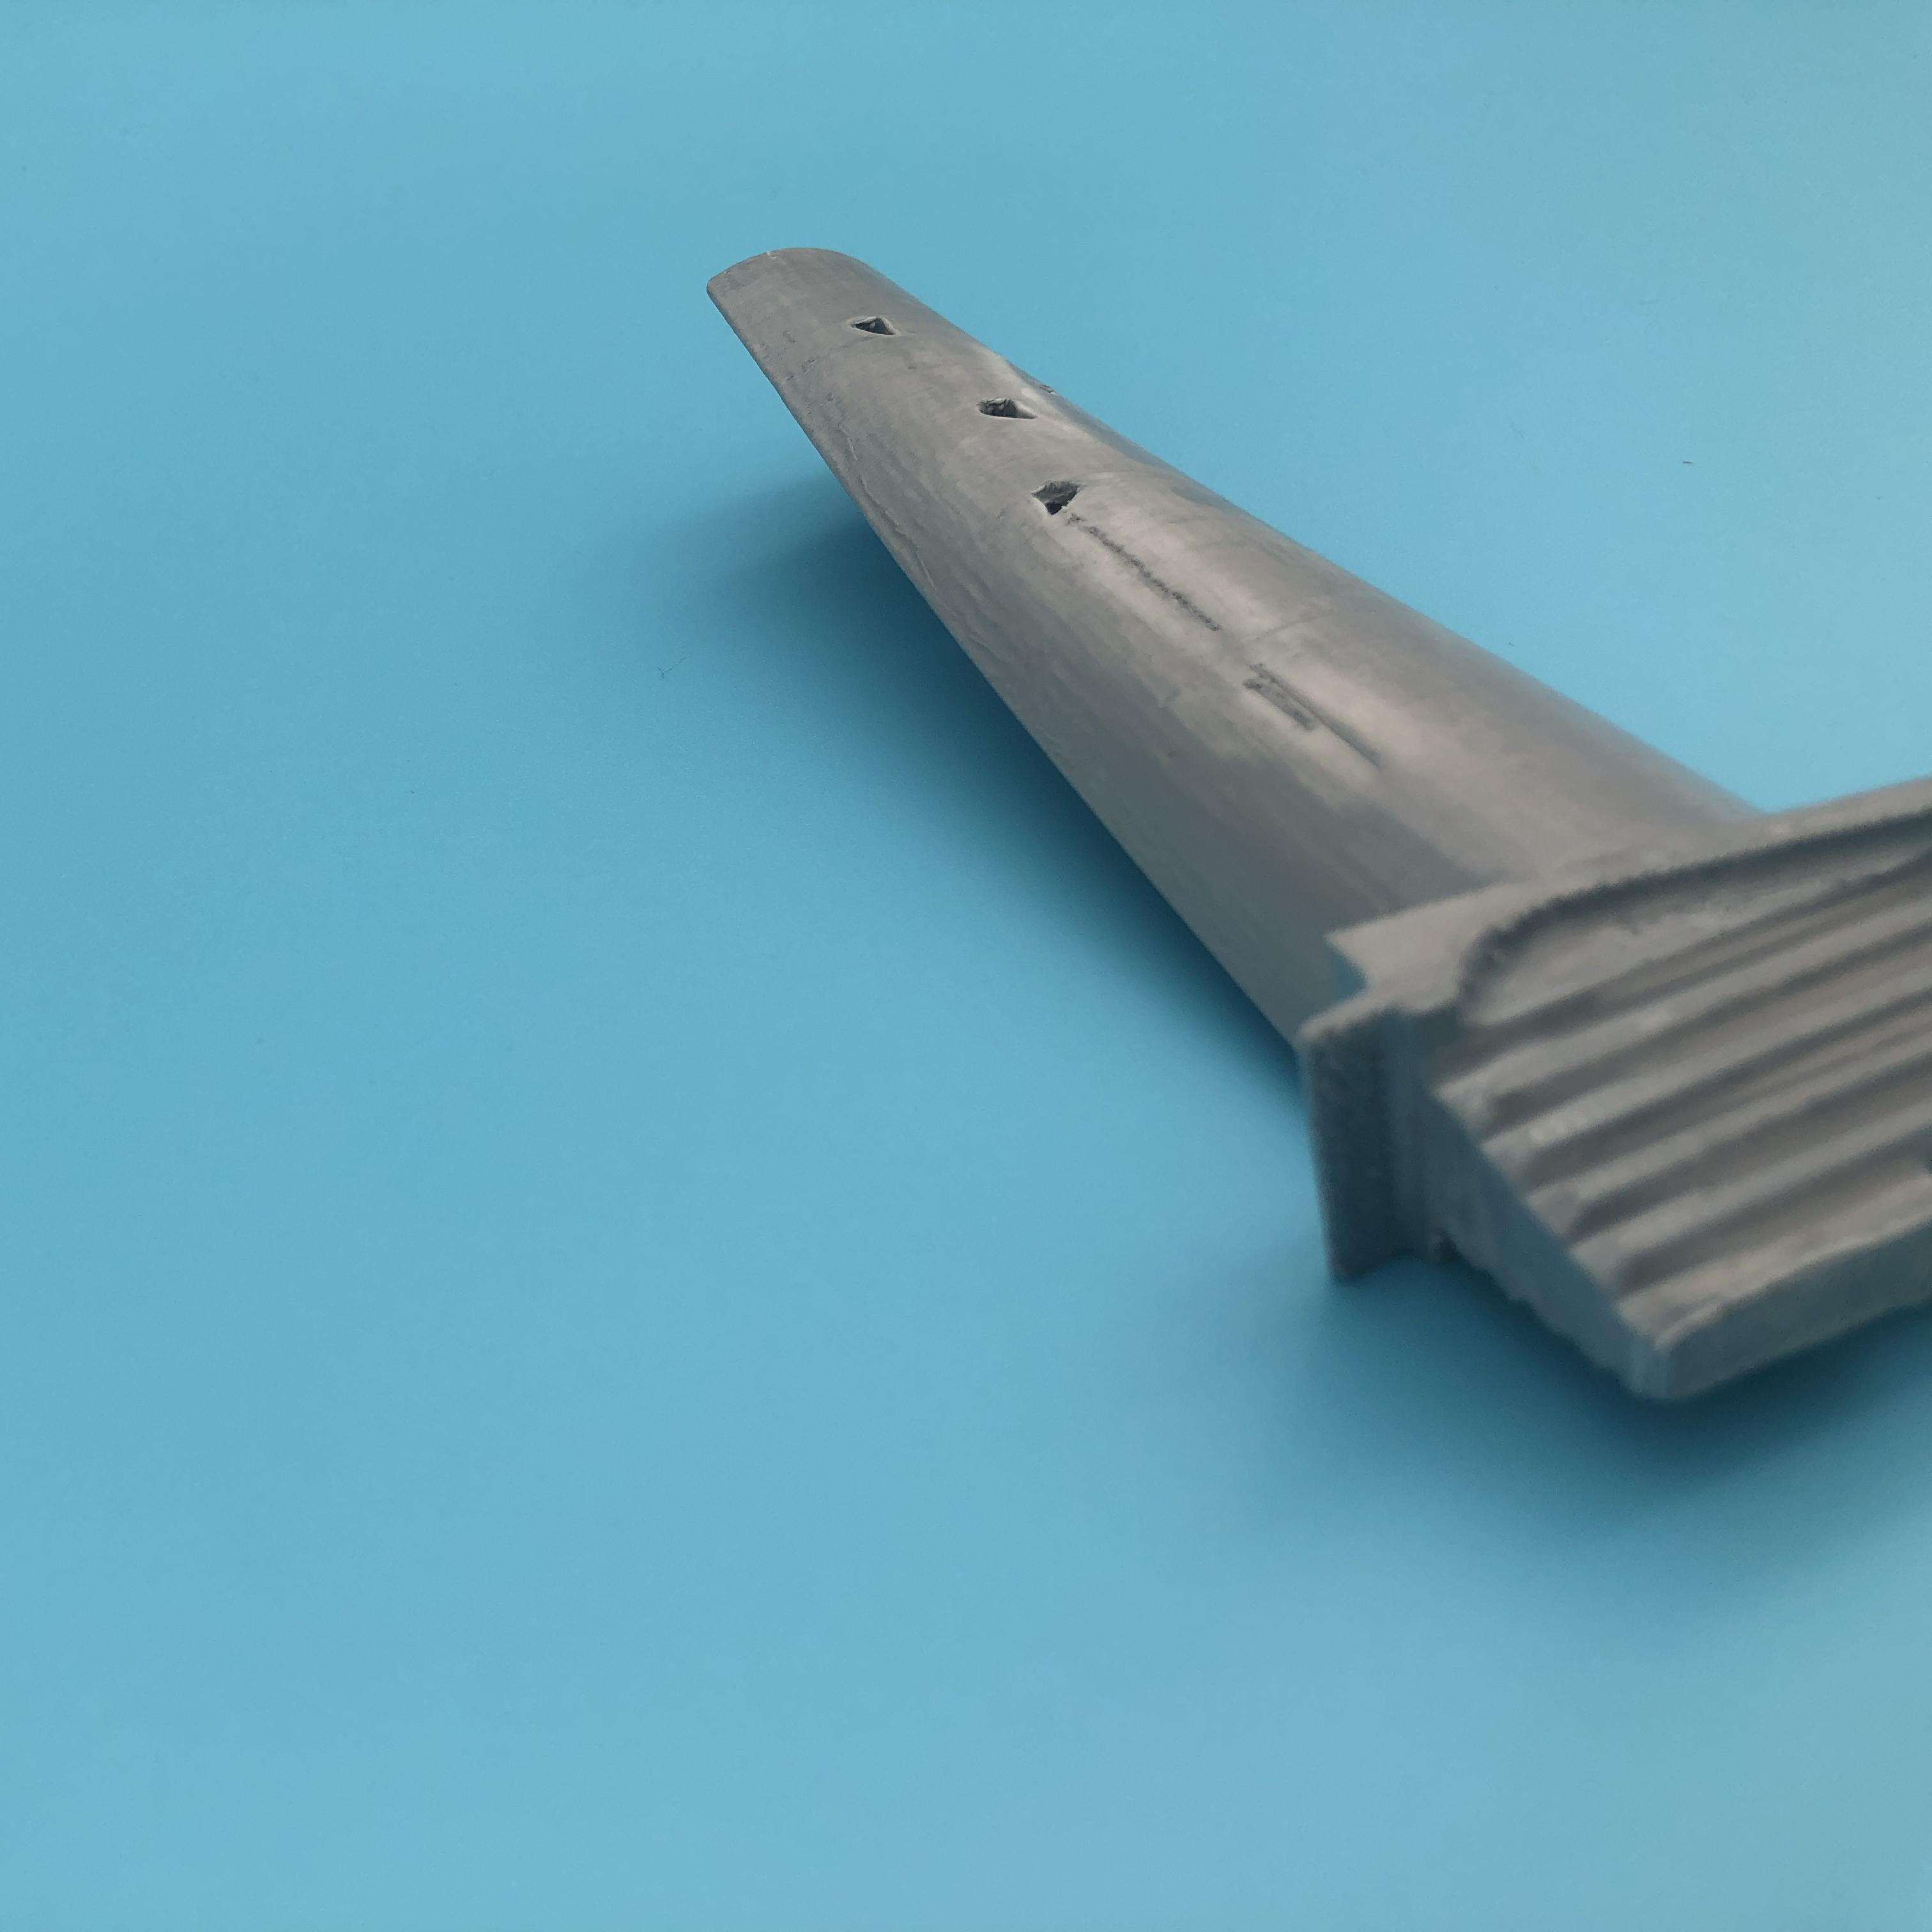breakdown: (863, 303, 1085, 515)
